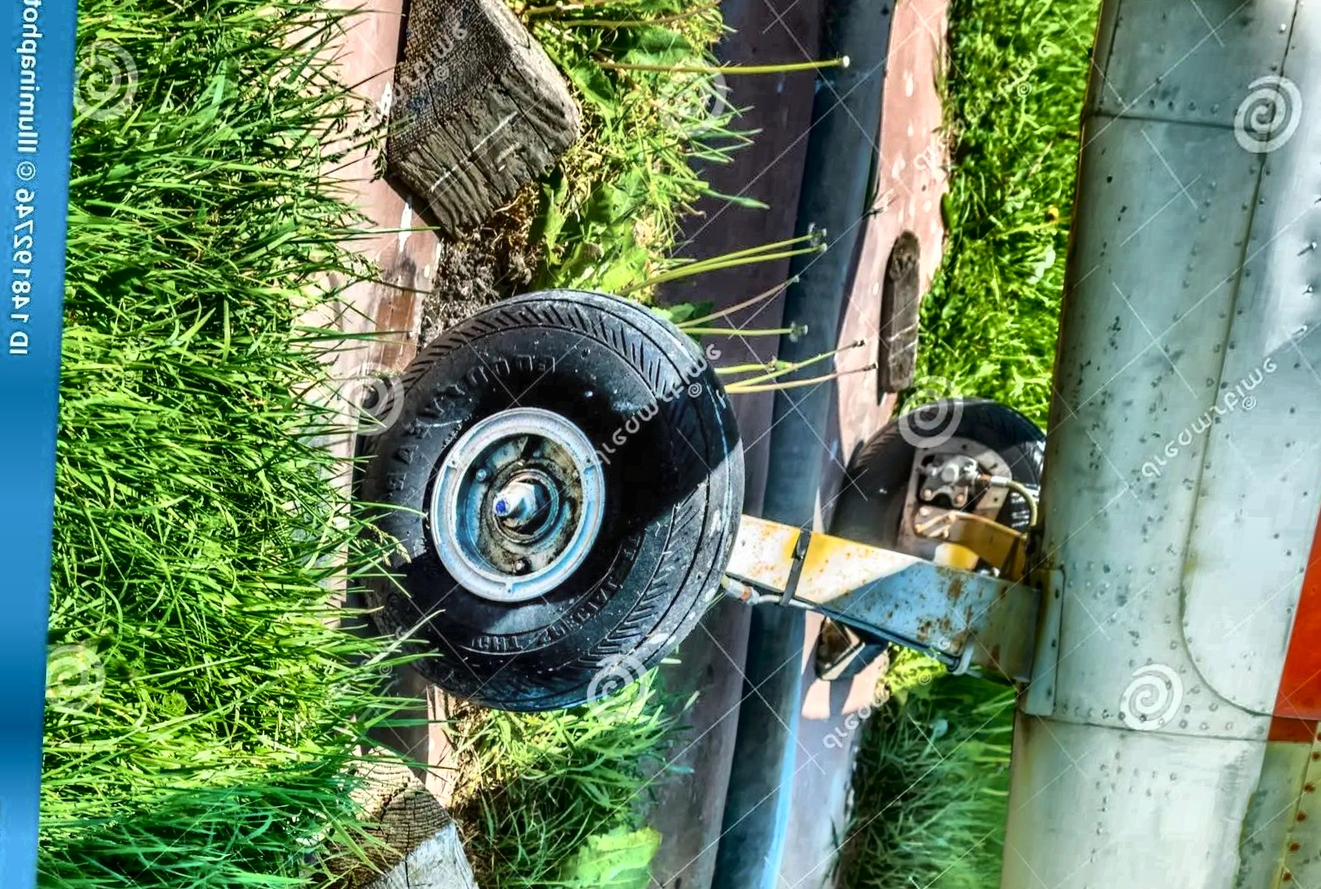chock: (362, 0, 618, 249), (291, 744, 528, 889), (805, 615, 908, 686)
wheel: (345, 291, 769, 718), (835, 400, 1058, 558)
